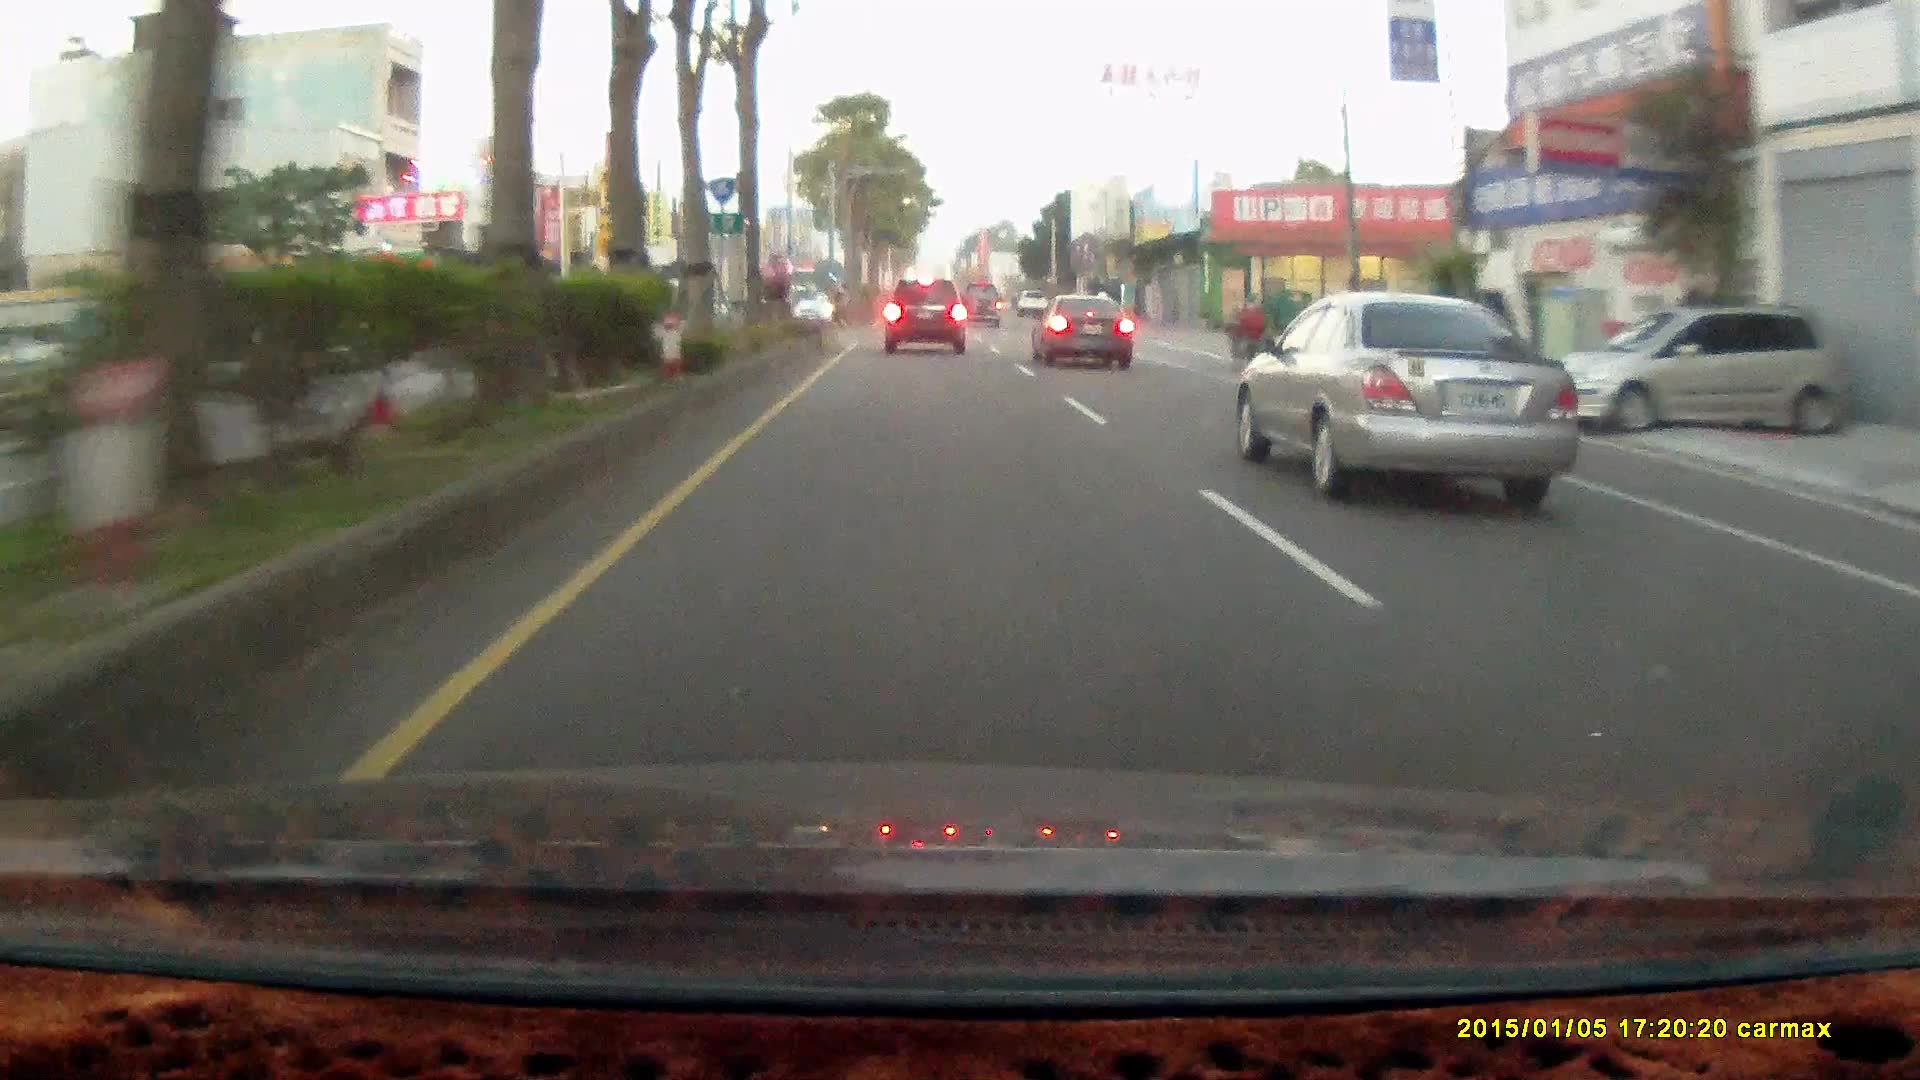pedestrian: (1240, 297, 1270, 372), (1241, 298, 1267, 367)
vehicle: (1238, 295, 1575, 505), (1554, 300, 1844, 436), (1557, 304, 1846, 440), (1031, 294, 1137, 374), (1030, 285, 1132, 364), (882, 272, 970, 353), (884, 282, 965, 357), (768, 276, 831, 332), (959, 280, 1001, 326)
